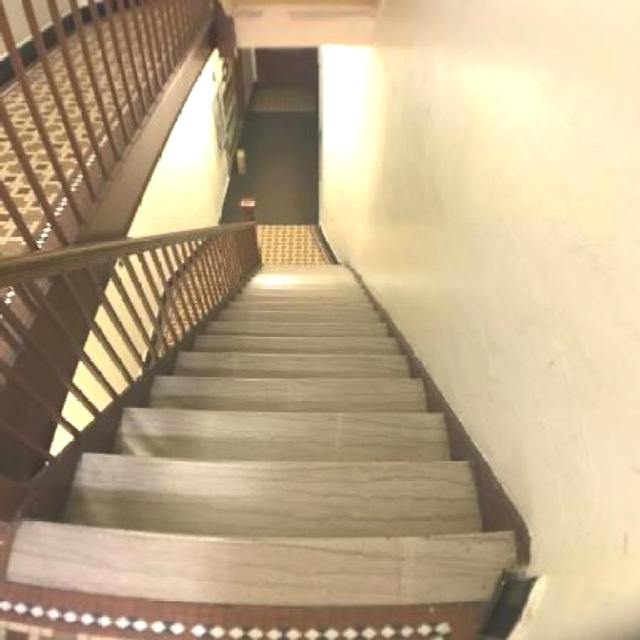stair: (1, 166, 536, 612)
